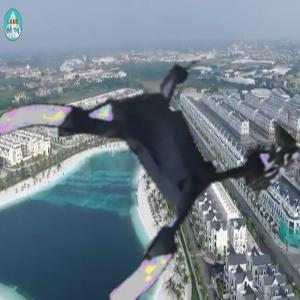drone: (4, 31, 256, 283)
